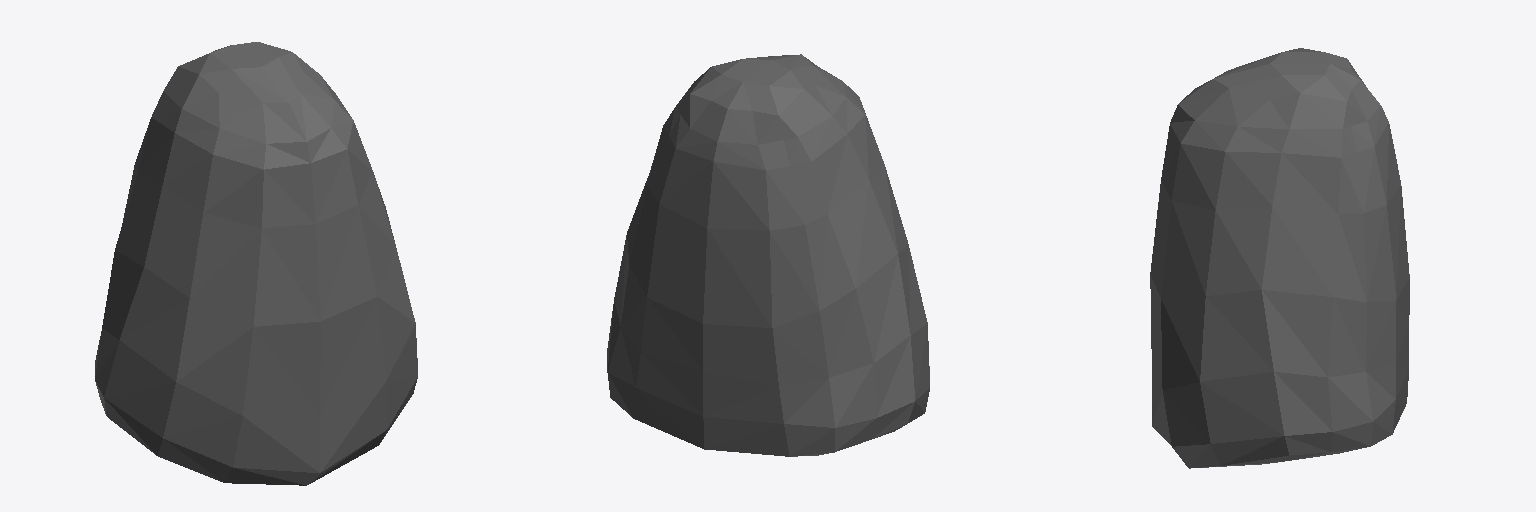
Rendered from thief_body.obj.
The picture shows the model from 3 angles: view 1: azimuth 30°, elevation 25°; view 2: azimuth 150°, elevation 25°; view 3: azimuth 270°, elevation 25°; orthographic projection.
Parts seen in each view (by area): view 1: thief_body; view 2: thief_body; view 3: thief_body.
Part boxes in pixels (x1,y1,x2,y2): thief_body: (95, 42, 417, 485); thief_body: (607, 54, 929, 456); thief_body: (1150, 48, 1409, 468).
Bounding box in the file's own units: 11.08 × 13.61 × 8.32.